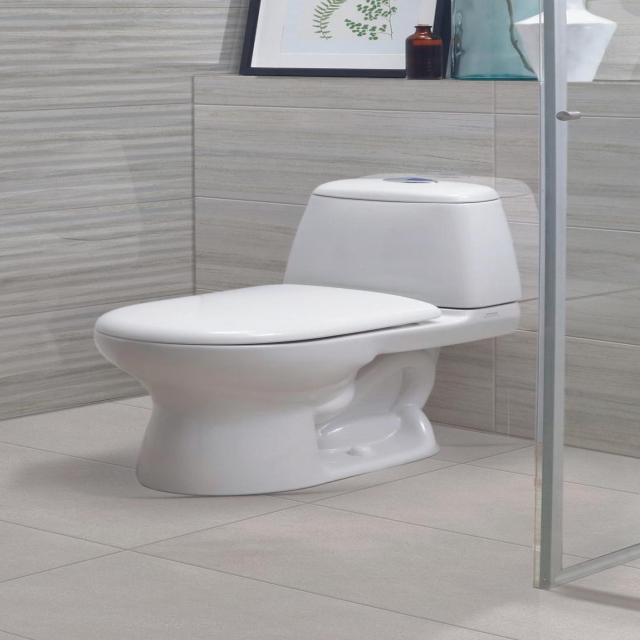toilet: (92, 173, 523, 496)
